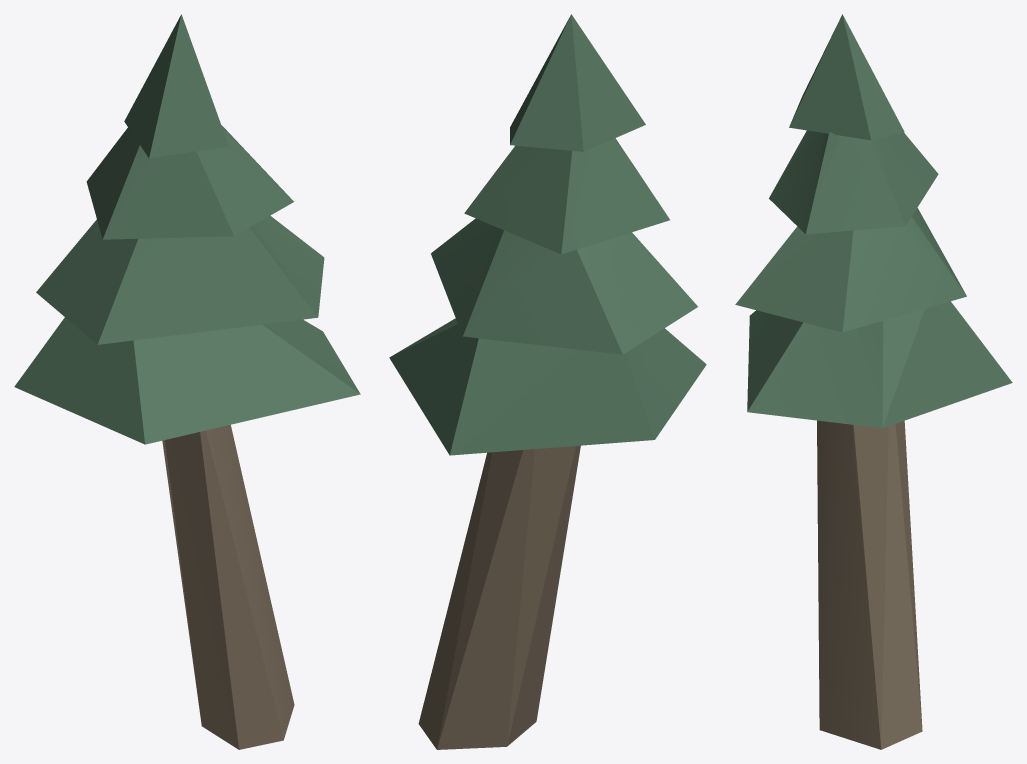
The model's file is Tree_Pine_Tall_02.fbx.
3 views of the same model, side by side, from view 1: azimuth 30°, elevation 25°; view 2: azimuth 150°, elevation 25°; view 3: azimuth 270°, elevation 25° (orthographic). The views are drawn at different scales.
Parts seen in each view (by area): view 1: Tree_Pine_Tall_02; view 2: Tree_Pine_Tall_02; view 3: Tree_Pine_Tall_02.
Part boxes in pixels (bbox=[...]): Tree_Pine_Tall_02: bbox=[14, 14, 360, 749]; Tree_Pine_Tall_02: bbox=[389, 14, 706, 749]; Tree_Pine_Tall_02: bbox=[735, 14, 1012, 749].
Bounding box in the file's own units: 43.51 × 106 × 39.5.
